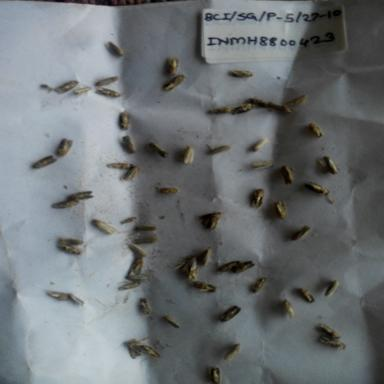pbw: (178, 254, 200, 282), (90, 218, 122, 236), (218, 303, 242, 325), (317, 321, 344, 339), (313, 336, 347, 350), (159, 76, 185, 94), (205, 103, 236, 118), (51, 78, 80, 94), (158, 56, 181, 76), (233, 258, 258, 276), (216, 258, 242, 275), (304, 180, 330, 197), (321, 155, 342, 176), (146, 140, 169, 159), (188, 279, 217, 294), (289, 90, 313, 108), (270, 198, 288, 222), (224, 66, 257, 79), (126, 257, 147, 277), (290, 225, 314, 242), (29, 156, 58, 170), (56, 136, 76, 156), (296, 284, 316, 304), (204, 210, 222, 232), (229, 102, 257, 116), (265, 101, 293, 115), (280, 297, 297, 320), (247, 159, 277, 172), (226, 341, 245, 361), (107, 40, 128, 58), (242, 96, 270, 109), (322, 280, 342, 298), (202, 366, 222, 384), (120, 134, 138, 154), (140, 343, 162, 359), (94, 75, 121, 88), (249, 137, 272, 152), (126, 341, 149, 356), (252, 273, 269, 293), (250, 188, 266, 209), (59, 242, 83, 256), (180, 145, 196, 166), (116, 281, 144, 293), (58, 236, 86, 248), (64, 290, 85, 306), (126, 242, 148, 257), (312, 156, 330, 174), (115, 213, 142, 225), (69, 189, 93, 202), (125, 164, 144, 180), (117, 112, 133, 131), (103, 160, 133, 170), (207, 144, 232, 156), (160, 315, 182, 328), (124, 273, 152, 283), (47, 290, 70, 302), (282, 163, 294, 186), (200, 248, 213, 269), (49, 200, 81, 208), (306, 122, 324, 136), (140, 297, 154, 315), (158, 186, 181, 196), (134, 223, 159, 232), (94, 88, 122, 96), (71, 86, 93, 96), (134, 235, 158, 244)
